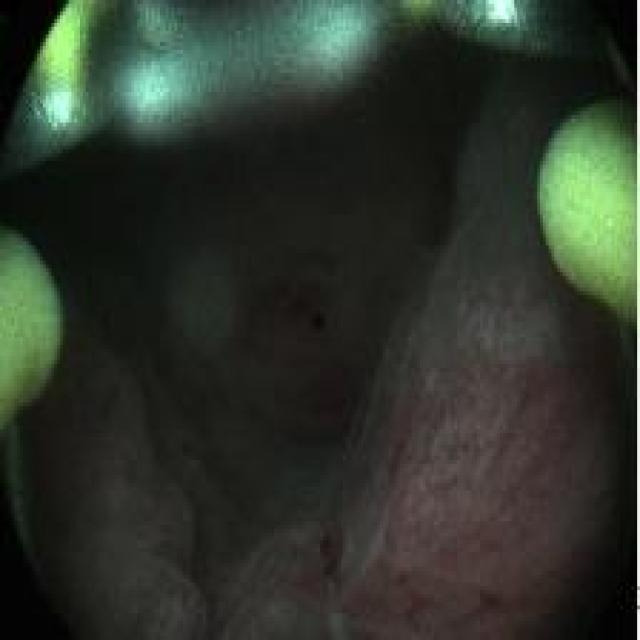color misalignment: (308, 304, 330, 336)
contrast: (15, 36, 496, 554)
instrument: (12, 4, 632, 165), (535, 93, 635, 338), (1, 230, 63, 429)
specularity: (484, 0, 523, 29), (47, 93, 73, 125)
